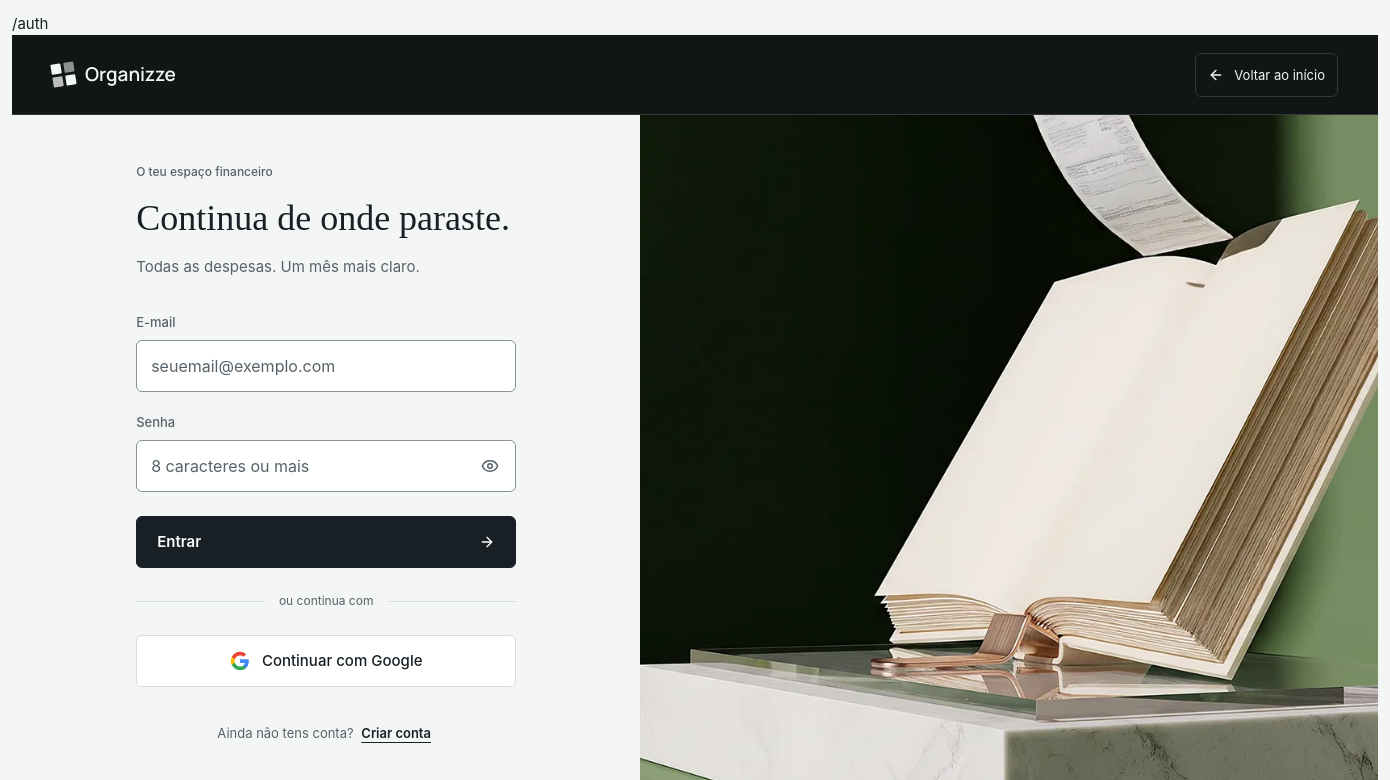
Test case: Auth paper redirects › still completes signup when browser storage is unavailable
Click the button "Criar conta": (396, 733) [357,711,435,755]
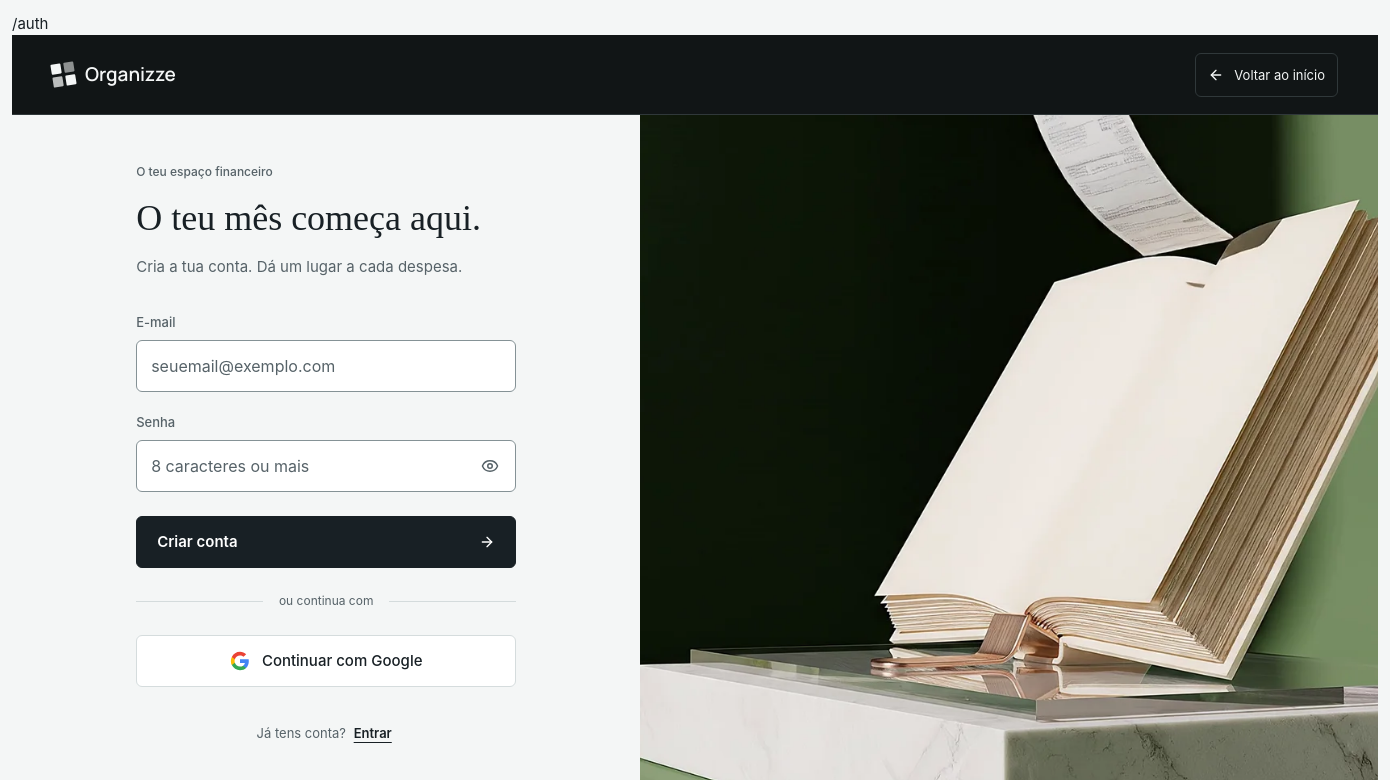
In the field labelled "E-mail": (326, 366) [136,340,516,392], type "person@example.com"
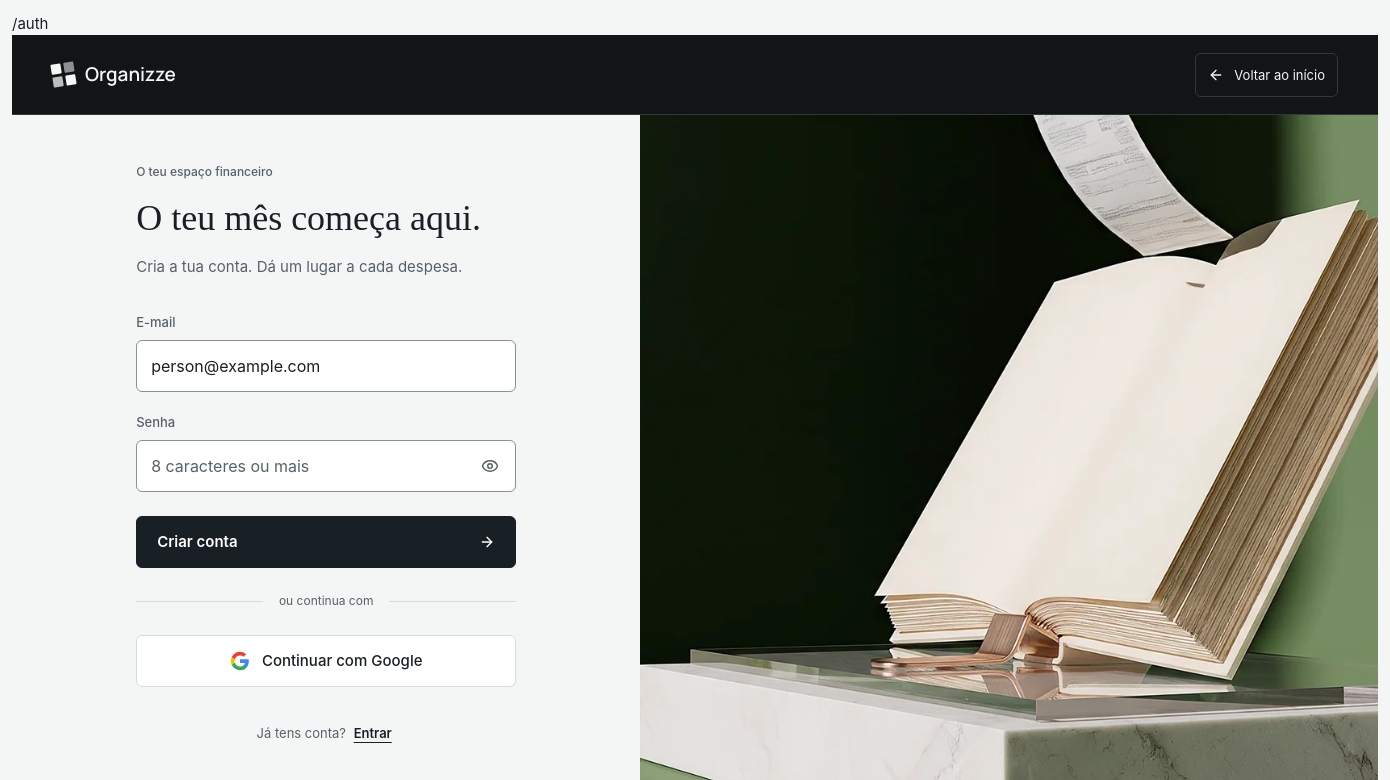
In the password field labelled "Senha": (326, 466) [136,440,516,492], type " secure-password "
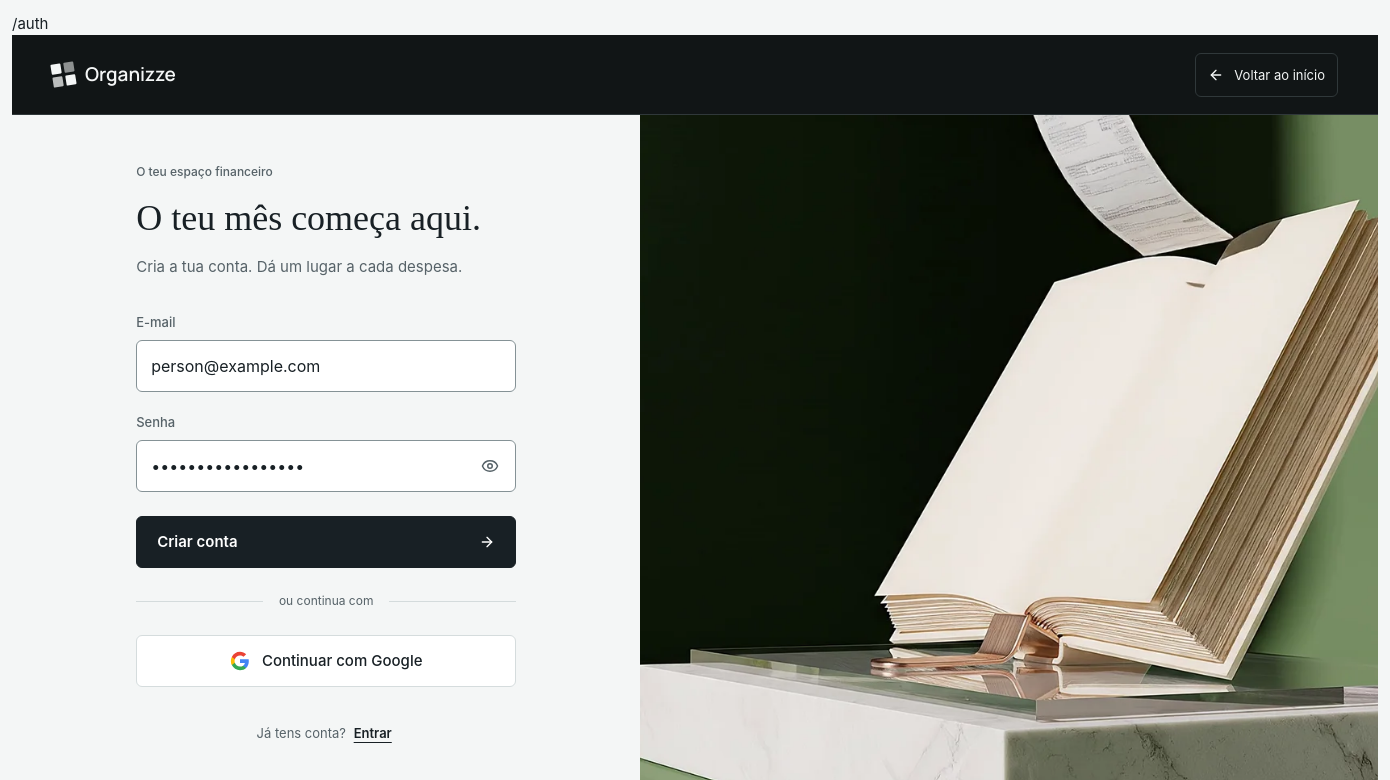
Click the button "Criar conta": (197, 542) [136,516,516,568]
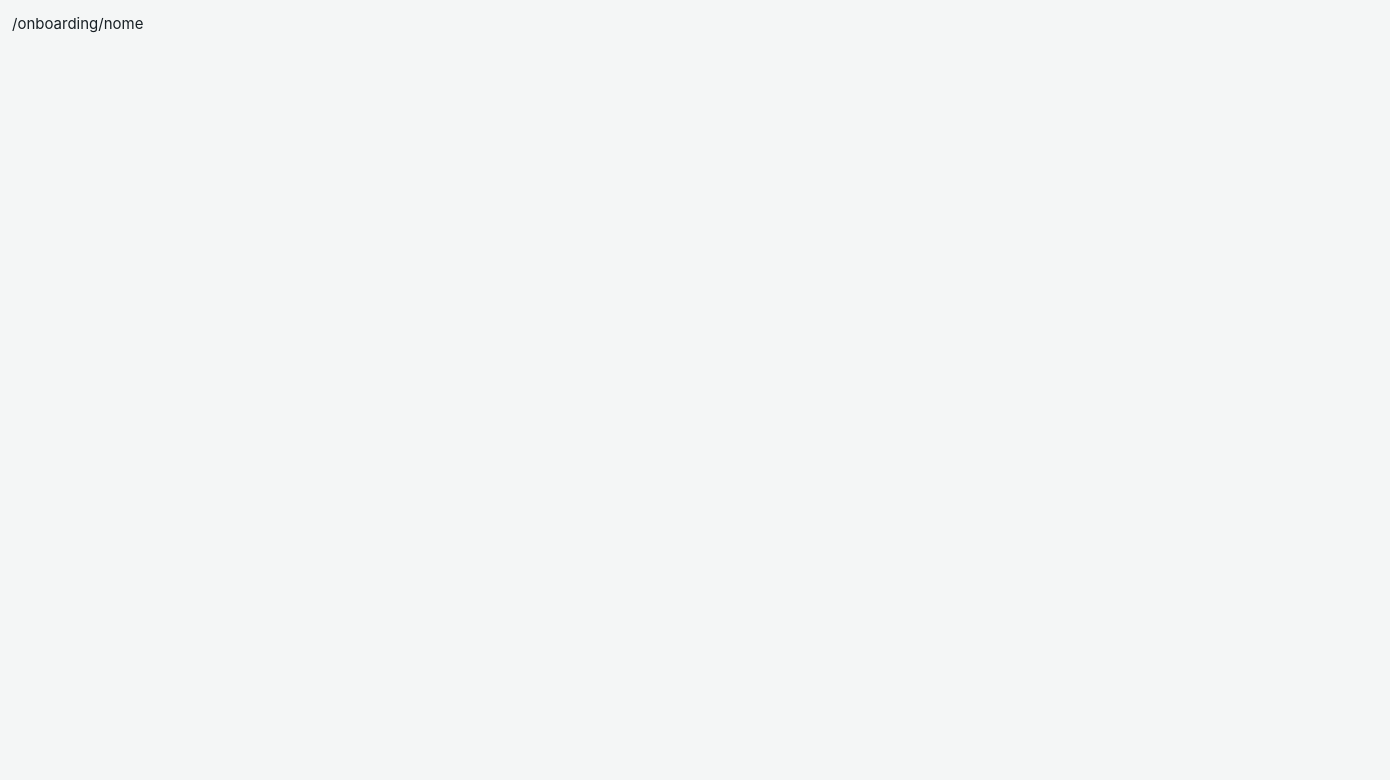
Expected: the text named "Current location" reads "/onboarding/nome", [12,14,143,33]
